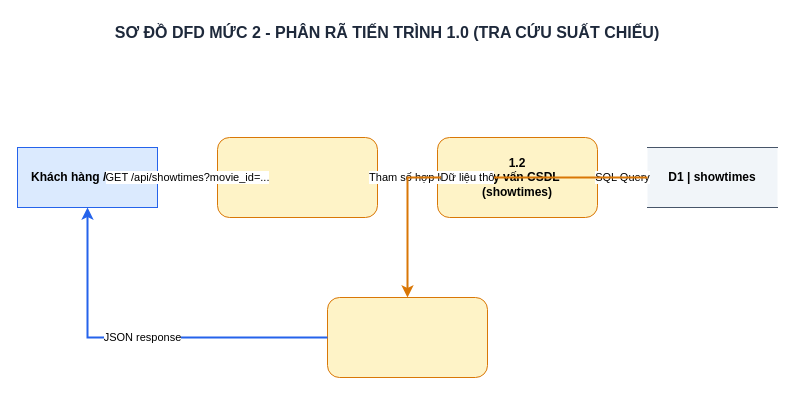
Image size: 795x395. Some labels were removed from this diagram. Here are the shapes that lost their labels. From the top down, the box of each, then its label:
(216, 136, 378, 218): 1.1 Nhận & kiểm tra tham số (movie_id)
(326, 296, 488, 378): 1.3 Đóng gói kết quả JSON
